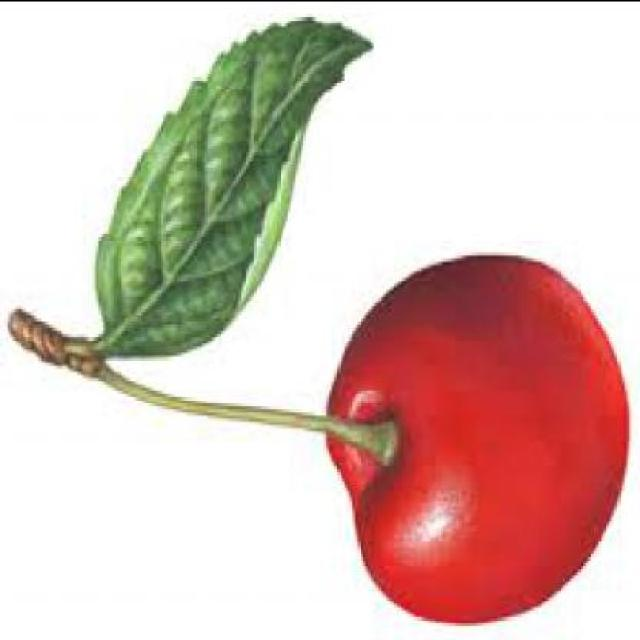BIODEGRADABLE: (319, 255, 627, 627), (78, 16, 373, 361)
